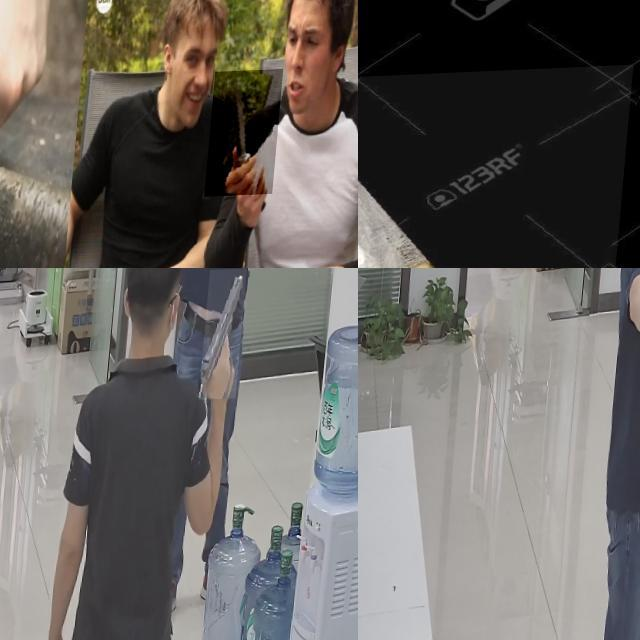-: (358, 69, 635, 268), (0, 29, 90, 214), (167, 0, 345, 87), (215, 74, 291, 201), (0, 0, 10, 21)
gun-knife-thesis - v11 Yolov5 augmented: (203, 272, 249, 403)
